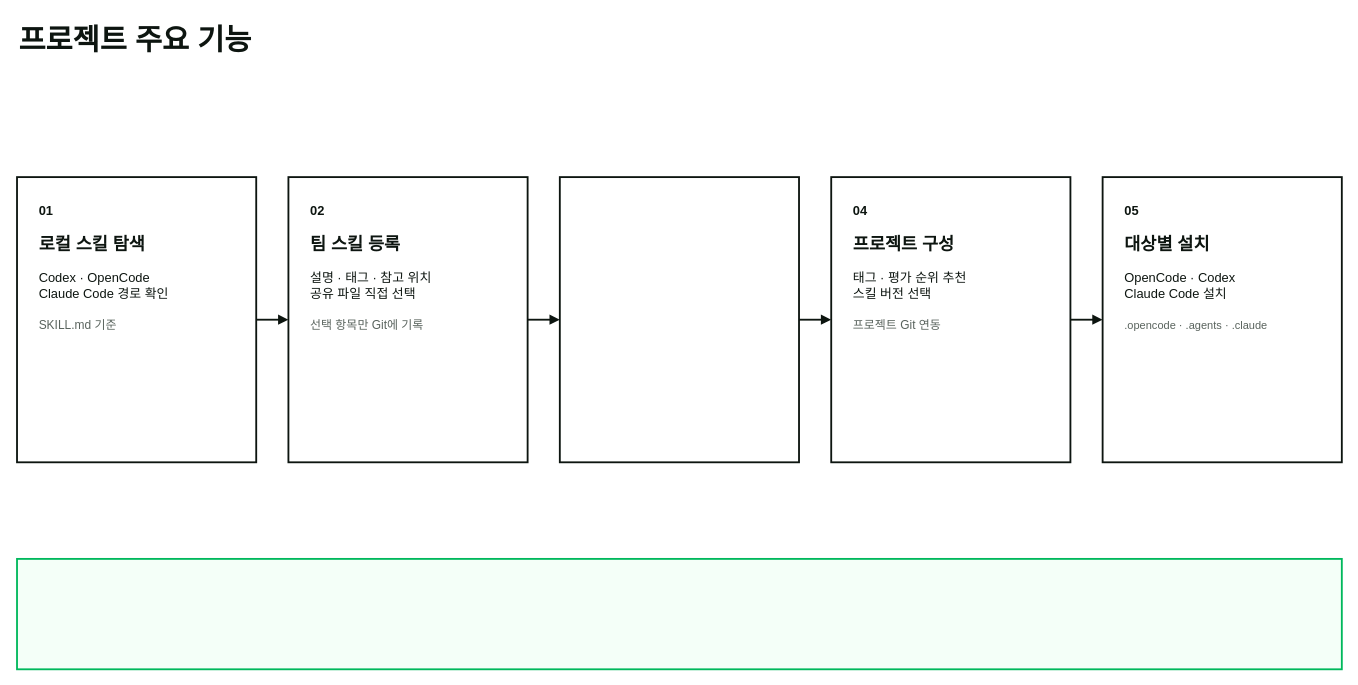
The diagram is 1358 pixels wide and 685 high, and some of its shapes have lost their labels. Each missing label, with the centre of its shape:
"03 평가 및 후기 별점 · 의견 사용 프로젝트 기록 본인 스킬 평가 가능" belongs at [678,319].
"Git 기반 관리 스킬 · 평가 · 프로젝트 구성을 파일로 저장하고 commit · diff · rollback으로 변경 이력 확인" belongs at [679,614].
